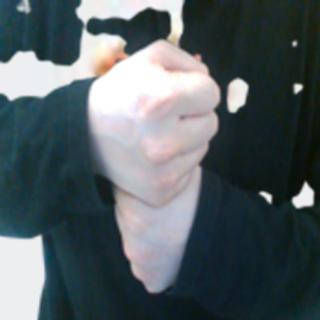CAREFUL: (82, 32, 223, 301)
